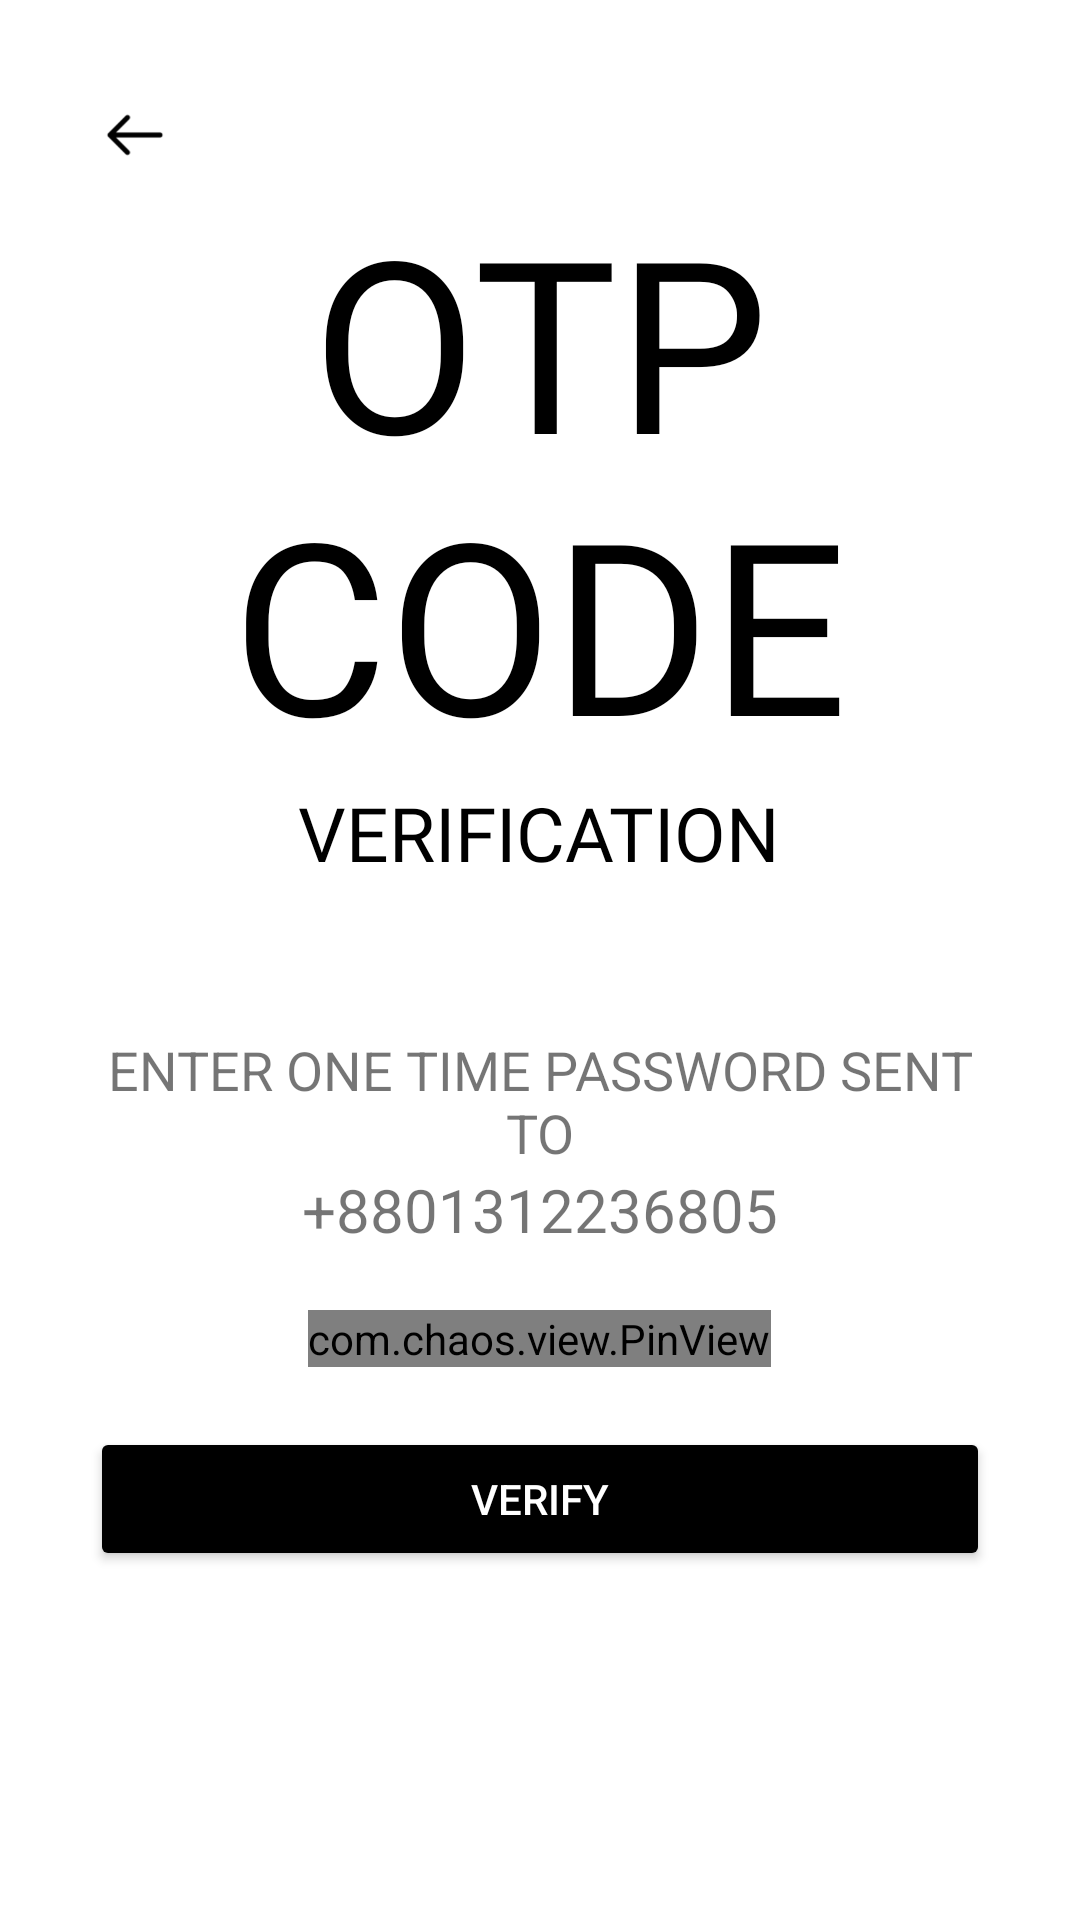

Point at icon controls on the screen. Image size 1080x1920, points as [x,y].
back: [135,135]
